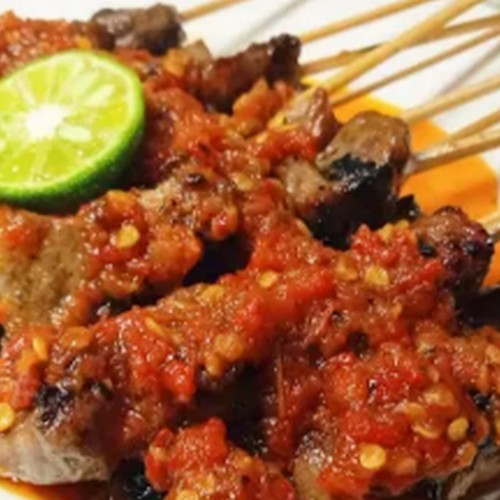sate plecing: (15, 22, 468, 456)
